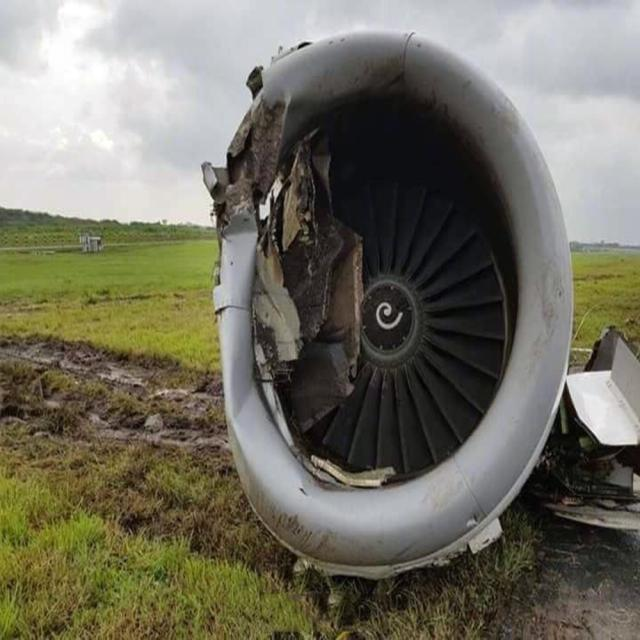dent: (220, 322, 254, 492), (221, 212, 262, 258)
